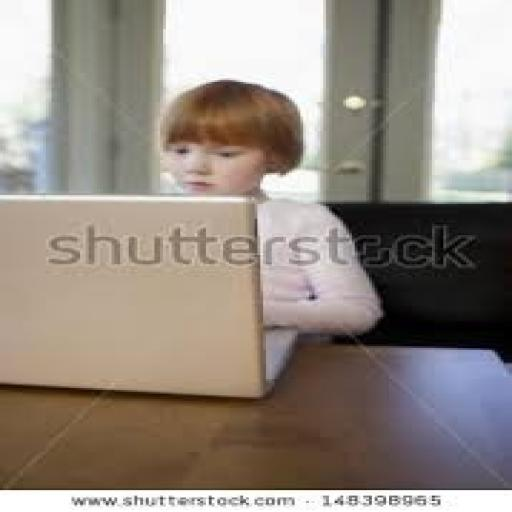using_laptop: (0, 193, 297, 399)
